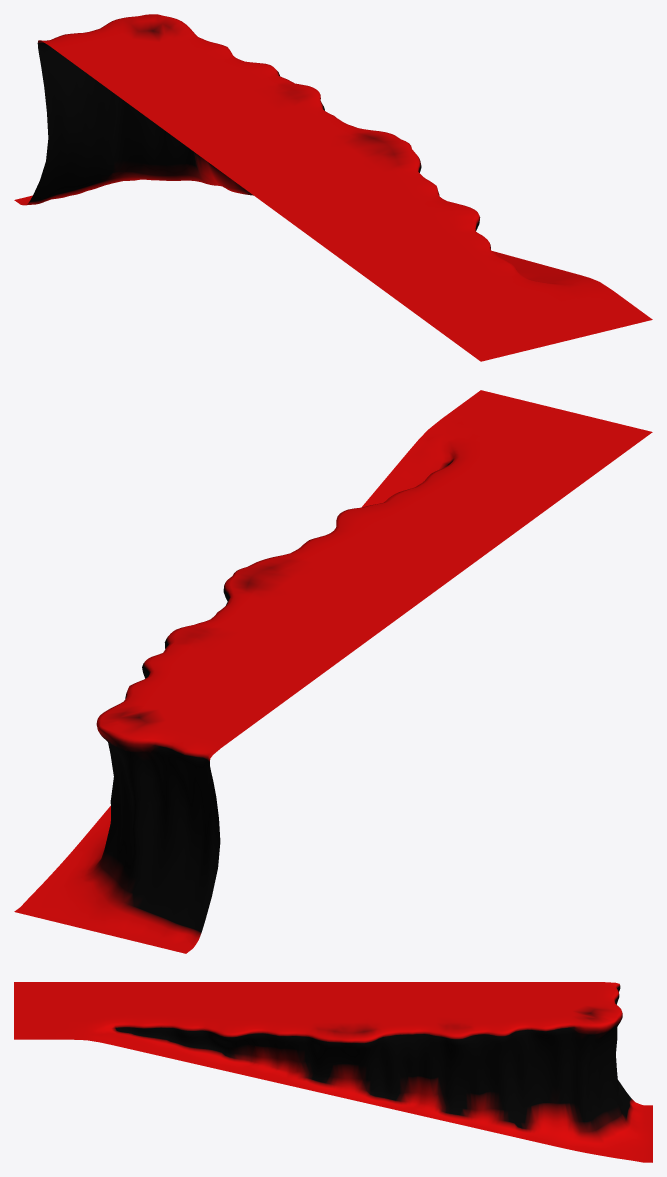
File: ClimbCliff01B 2M Foreground.fbx
3 views of the same model, one above another, from view 1: azimuth 30°, elevation 25°; view 2: azimuth 150°, elevation 25°; view 3: azimuth 270°, elevation 25° (orthographic). The views are drawn at different scales.
Visible parts, largest first — view 1: ClimbCliff01B 2M Foreground; view 2: ClimbCliff01B 2M Foreground; view 3: ClimbCliff01B 2M Foreground.
Boxes of the visible parts, x1,y1,x2,y2 form: ClimbCliff01B 2M Foreground: (14, 14, 652, 361); ClimbCliff01B 2M Foreground: (14, 390, 652, 953); ClimbCliff01B 2M Foreground: (14, 982, 652, 1162).
Size of the model in its own units: 2 by 2 by 9.4.
